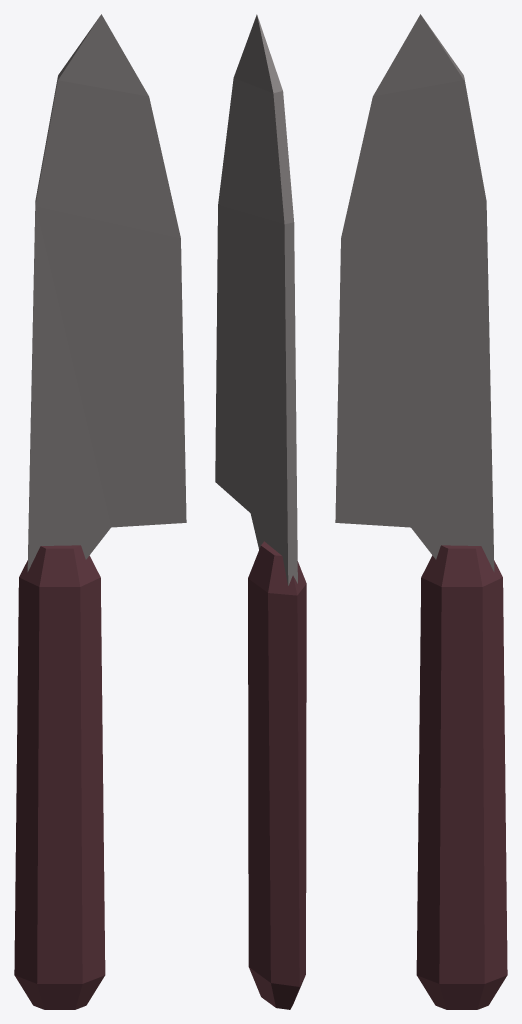
The model's file is dishes-knife-kitchen-large.glb.
3 views of the same model, side by side, from view 1: azimuth 90°, elevation 25°; view 2: azimuth 210°, elevation 25°; view 3: azimuth 270°, elevation 25° (orthographic). The views are drawn at different scales.
Parts seen in each view (by area): view 1: knife-kitchen-large; view 2: knife-kitchen-large; view 3: knife-kitchen-large.
Part boxes in pixels (x1,y1,x2,y2): knife-kitchen-large: (14,14,186,1009); knife-kitchen-large: (215,14,306,1009); knife-kitchen-large: (335,14,507,1009).
Bounding box in the file's own units: 0.0123 × 0.2963 × 0.0466.
